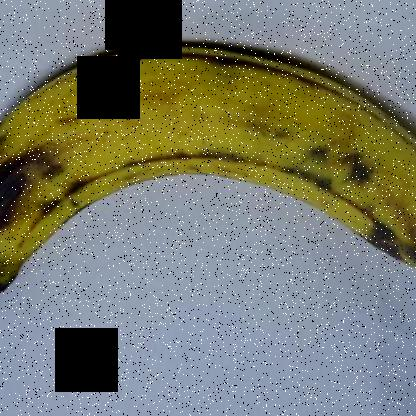ripe: (0, 27, 415, 312)
